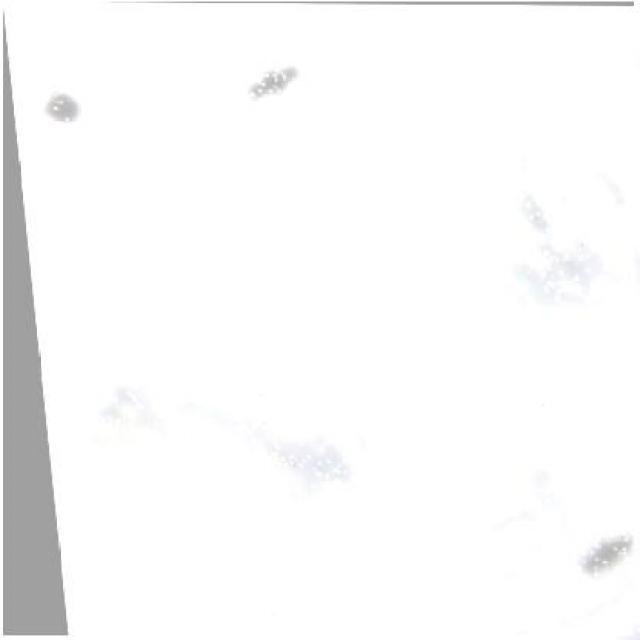Manhole: (2, 2, 635, 636)
